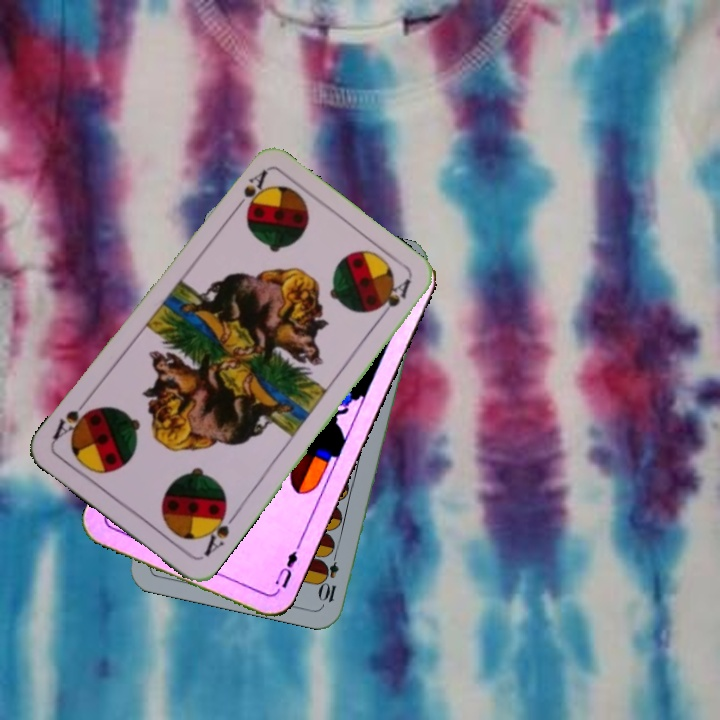E10: (317, 546, 342, 605)
EU: (270, 547, 300, 596)
SA: (198, 503, 240, 560), (227, 166, 271, 217)
